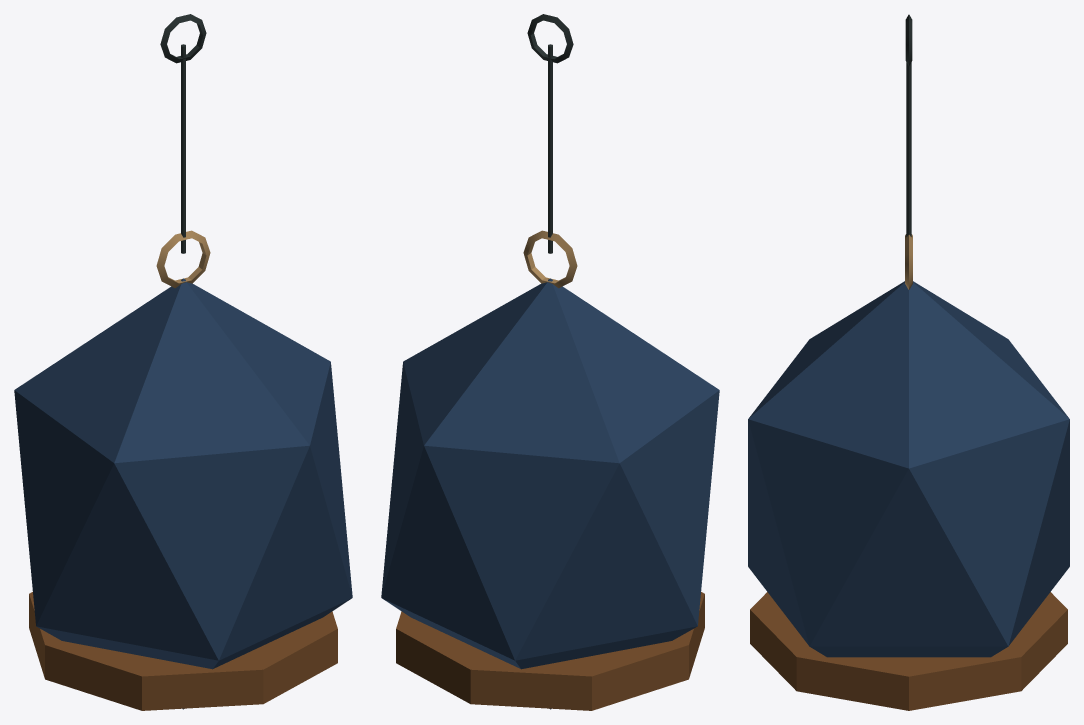
Rendered from long_chim__che.glb.
The picture shows the model from 3 angles, left to right: view 1: azimuth 30°, elevation 25°; view 2: azimuth 150°, elevation 25°; view 3: azimuth 270°, elevation 25°; orthographic projection.
Visible parts, largest first — view 1: long_chim__che; view 2: long_chim__che; view 3: long_chim__che.
Part boxes in pixels (x1=…): long_chim__che: x1=14, y1=14, x2=352, y2=710; long_chim__che: x1=381, y1=14, x2=719, y2=710; long_chim__che: x1=748, y1=14, x2=1069, y2=710.
Size of the model in its own units: 0.4472 by 1.01 by 0.4253.
